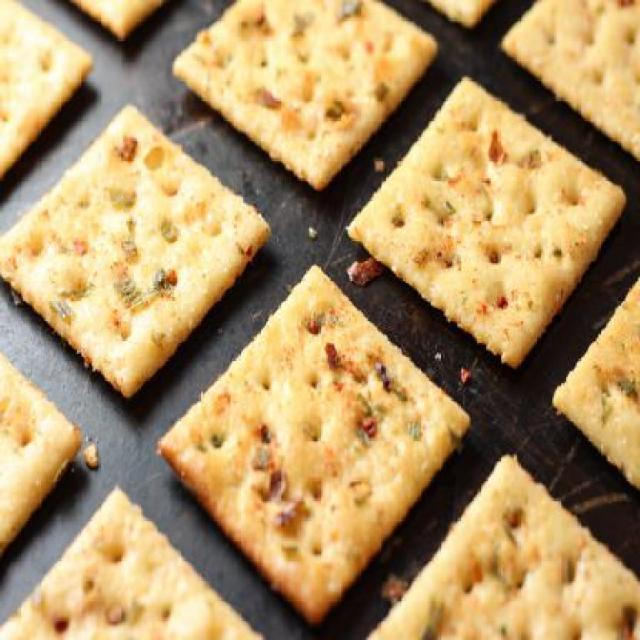Cracker packaged: (160, 258, 478, 604), (342, 64, 627, 373), (0, 97, 271, 406)
